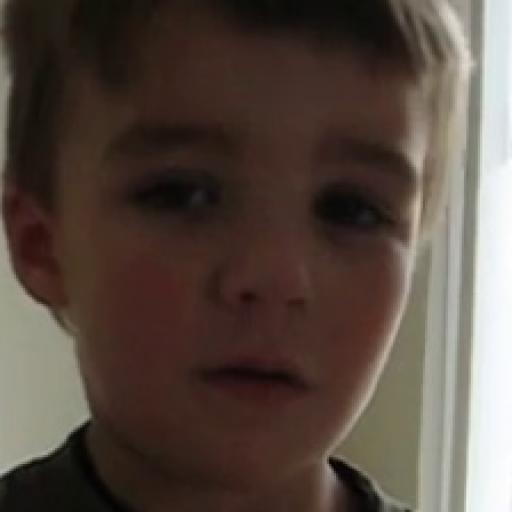Autism: (52, 0, 458, 509)
